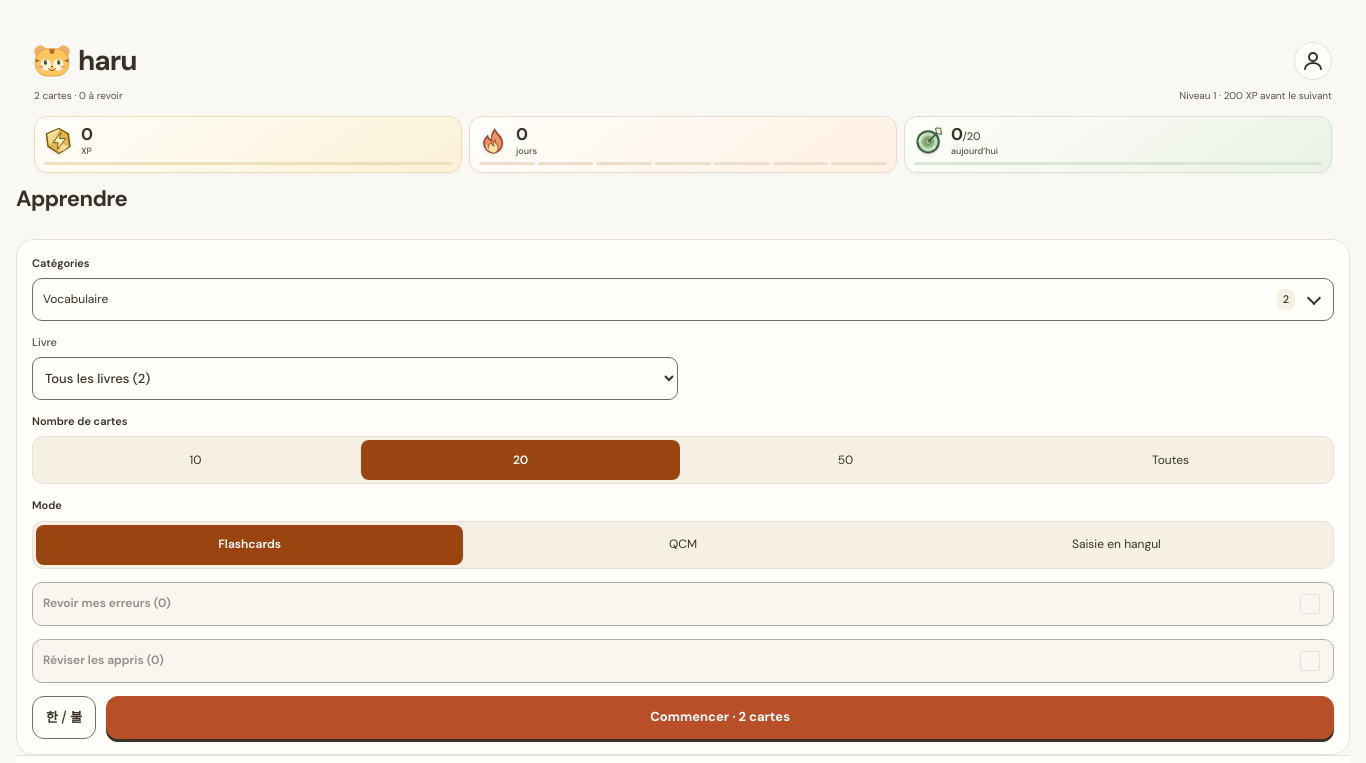
Scenario: mastered words › keeps an answer the network refused and sends it again with the next one
Click the button "Commencer · 2 cartes". click: (720, 717)
box: [106, 696, 1334, 739]
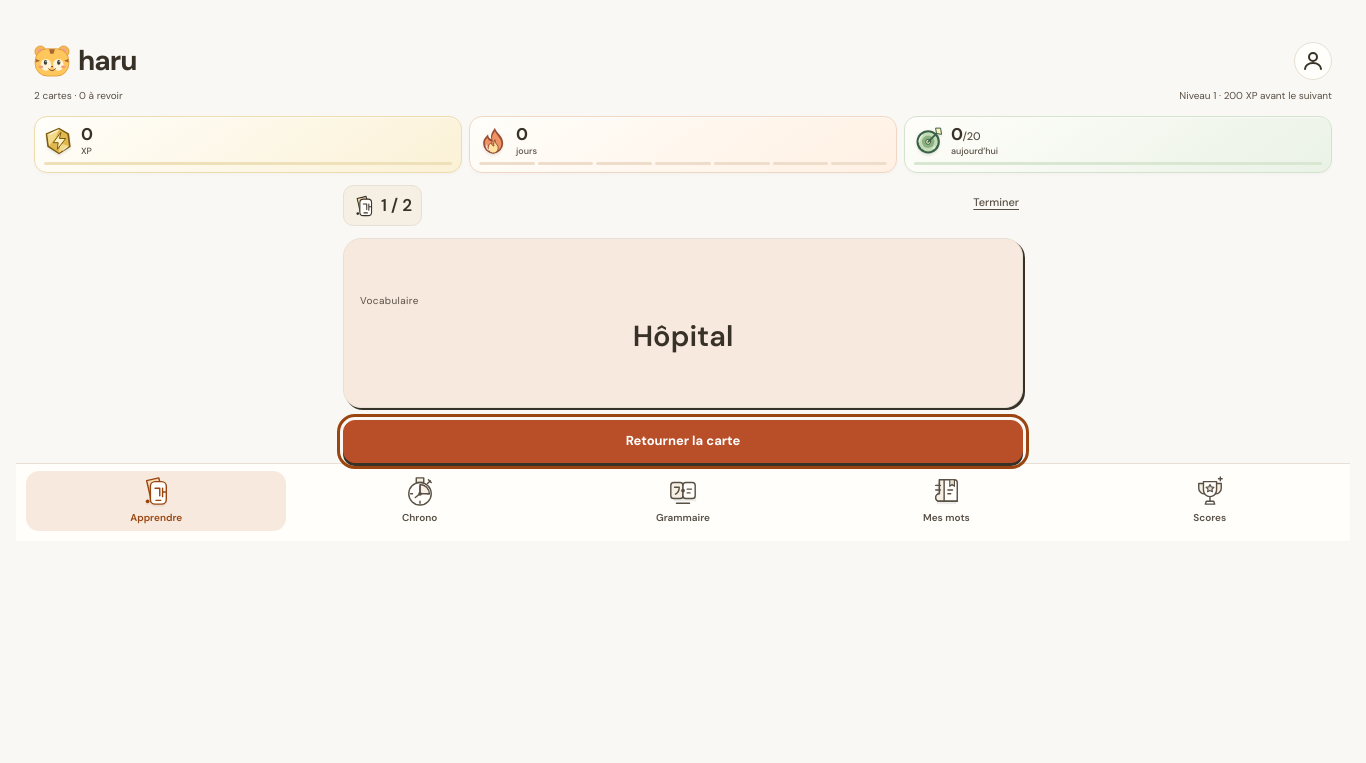
Press Space
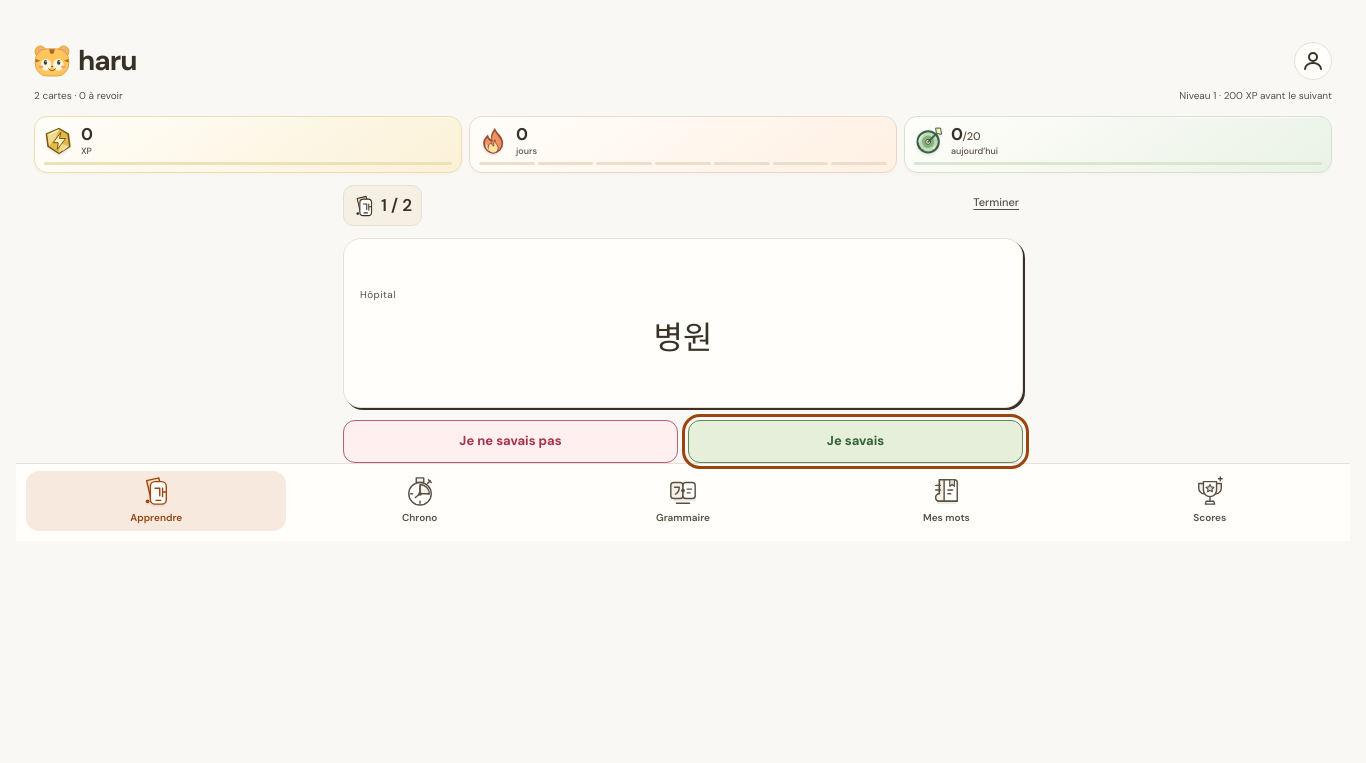
Press 2
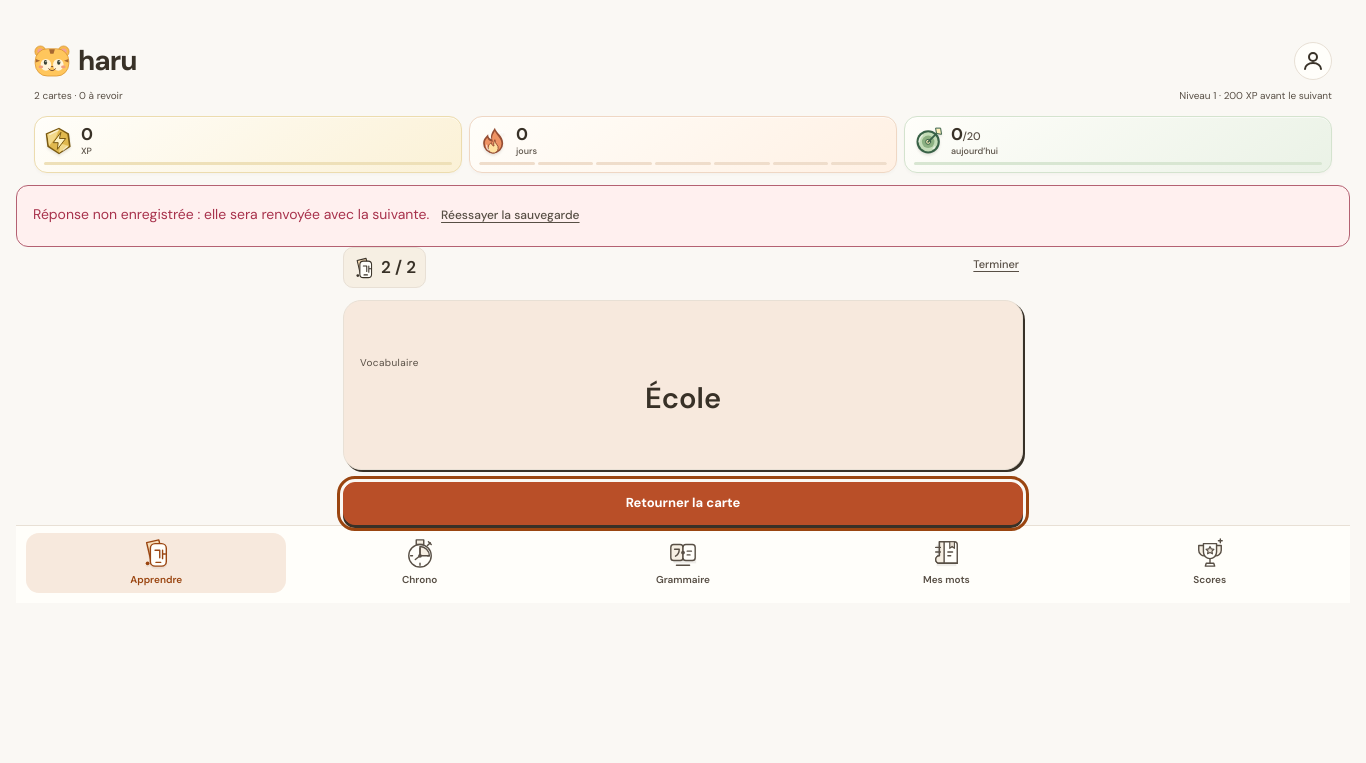
Check: the message shows "Réponse non enregistrée", box [33, 205, 433, 223]
Press Space
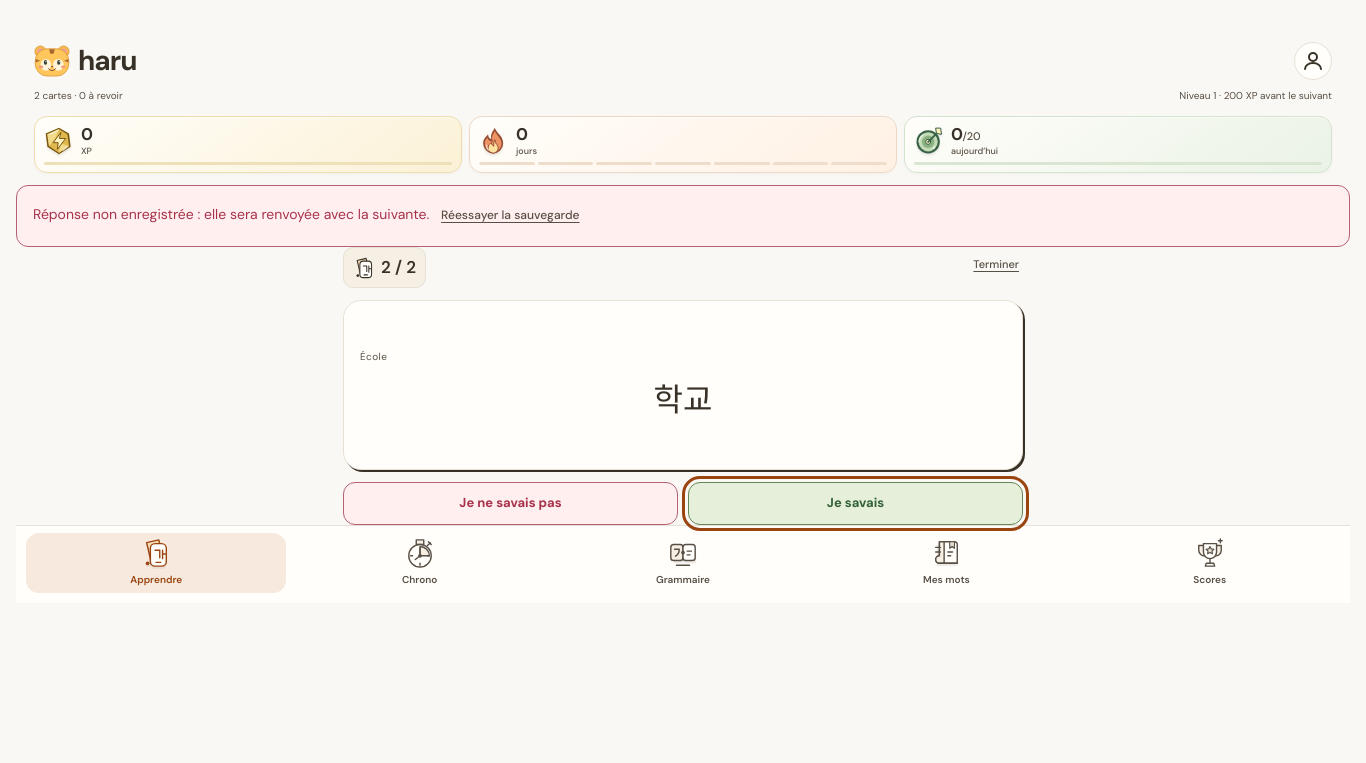
Press 2
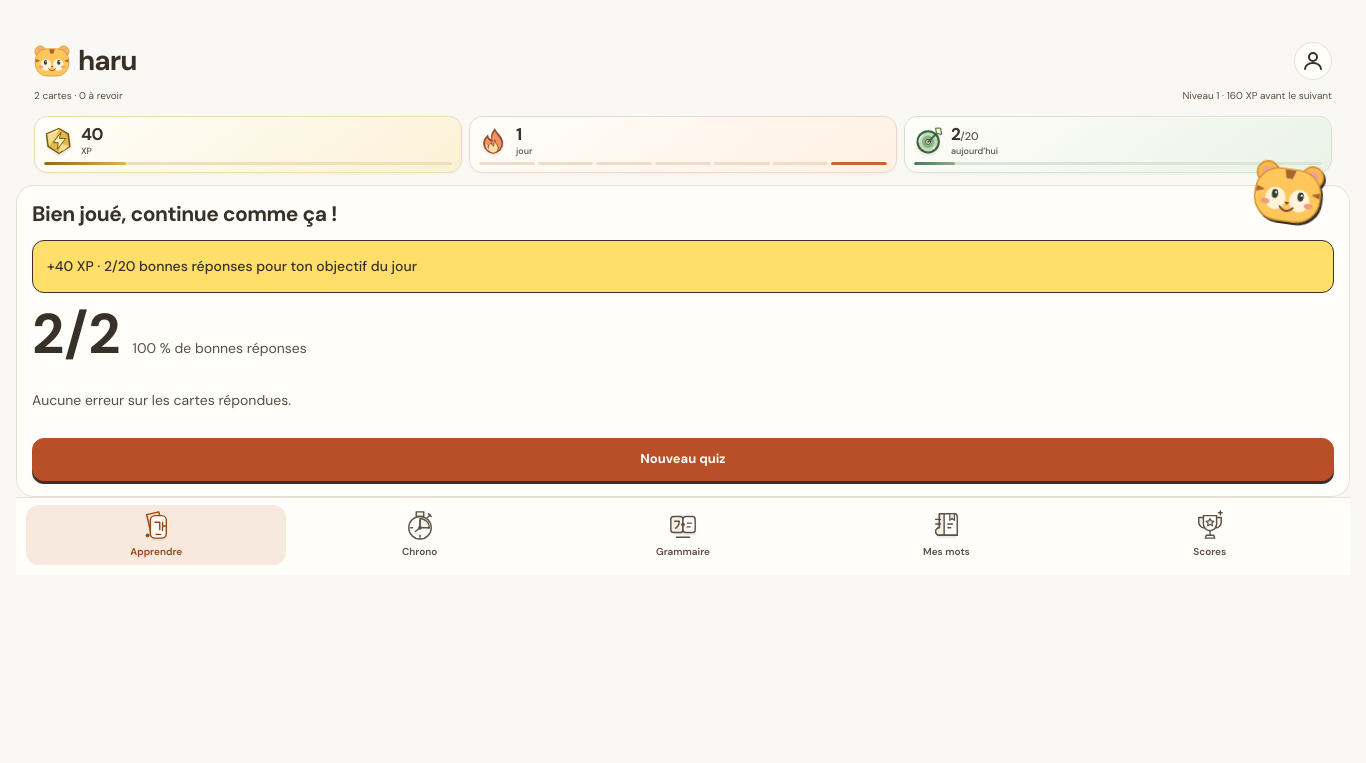
Check: the message is gone
